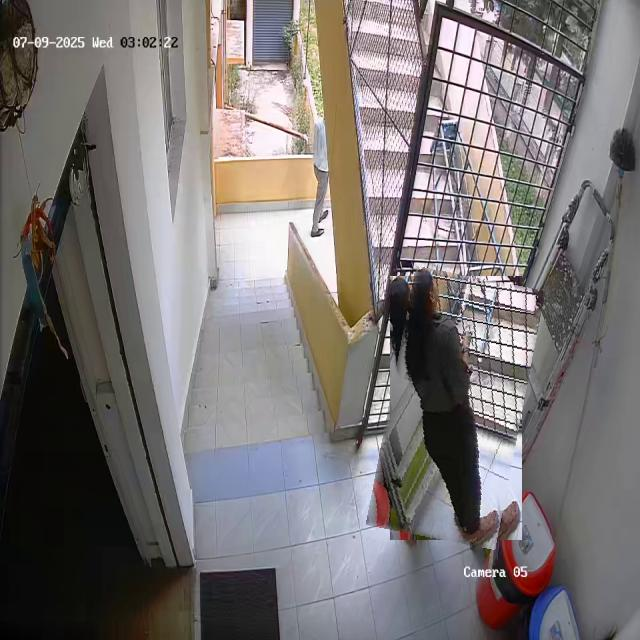person: (378, 271, 534, 545)
